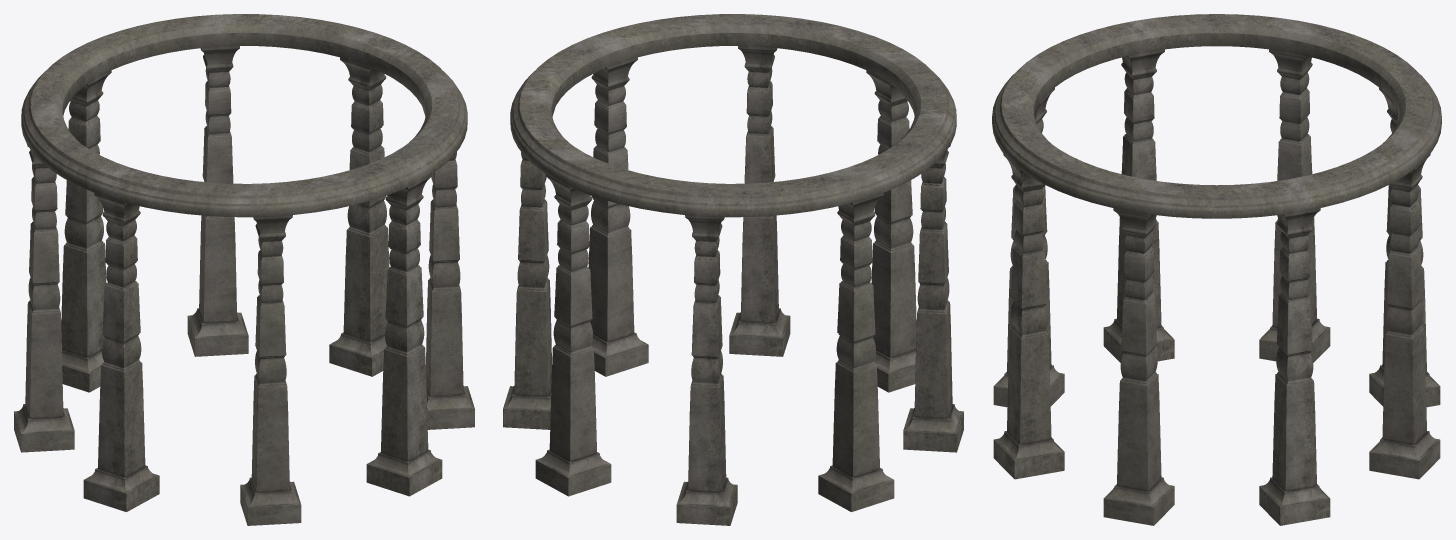
Rendered from Mystischer Steinkreis.fbx.
The picture shows the model from 3 angles, left to right: view 1: azimuth 30°, elevation 25°; view 2: azimuth 150°, elevation 25°; view 3: azimuth 270°, elevation 25°; orthographic projection.
Parts seen in each view (by area): view 1: Steinkreis-mystisch; view 2: Steinkreis-mystisch; view 3: Steinkreis-mystisch.
Part boxes in pixels (left/top/right/bottom): Steinkreis-mystisch: left=14, top=14, right=474, bottom=525; Steinkreis-mystisch: left=503, top=14, right=963, bottom=525; Steinkreis-mystisch: left=992, top=14, right=1441, bottom=525.
Size of the model in its own units: 798 by 639 by 798.
